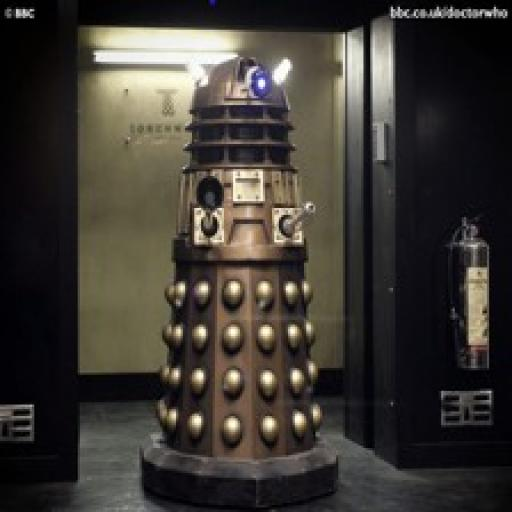dalek: (140, 42, 339, 512)
